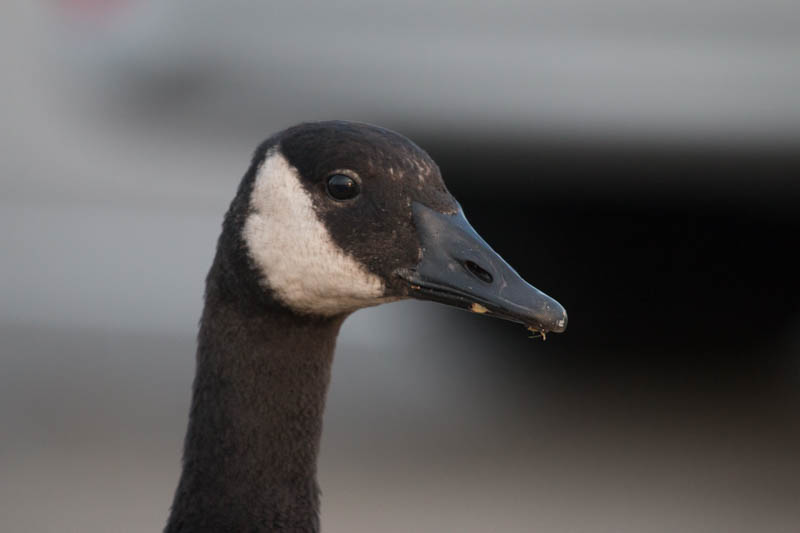goose-head: (204, 120, 568, 335)
